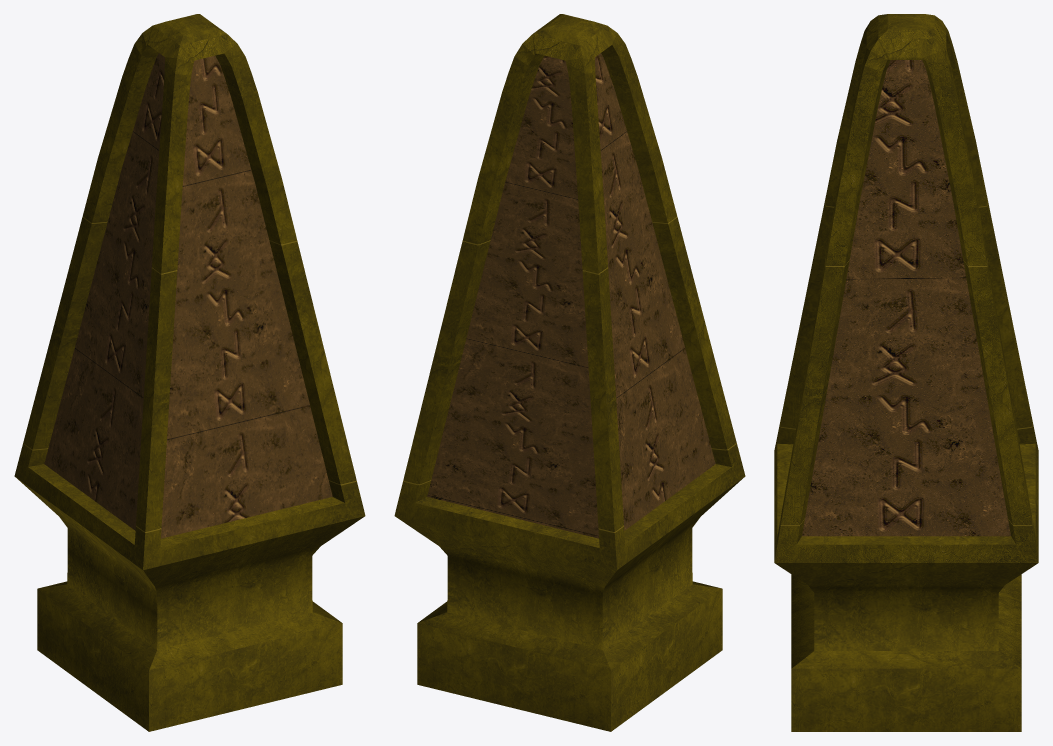
Rendered from stellaFire.obj.
3 renders of one model, left to right at view 1: azimuth 30°, elevation 25°; view 2: azimuth 150°, elevation 25°; view 3: azimuth 270°, elevation 25°, orthographic. The views are drawn at different scales.
Visible parts, largest first — view 1: stella_fire; view 2: stella_fire; view 3: stella_fire.
Part boxes in pixels (x1,y1,x2,y2): stella_fire: (14,14,365,731); stella_fire: (394,14,745,731); stella_fire: (774,14,1038,731).
Size of the model in its own units: 91.91 by 254 by 91.91.
Materials: 2 (2 with a texture image).
